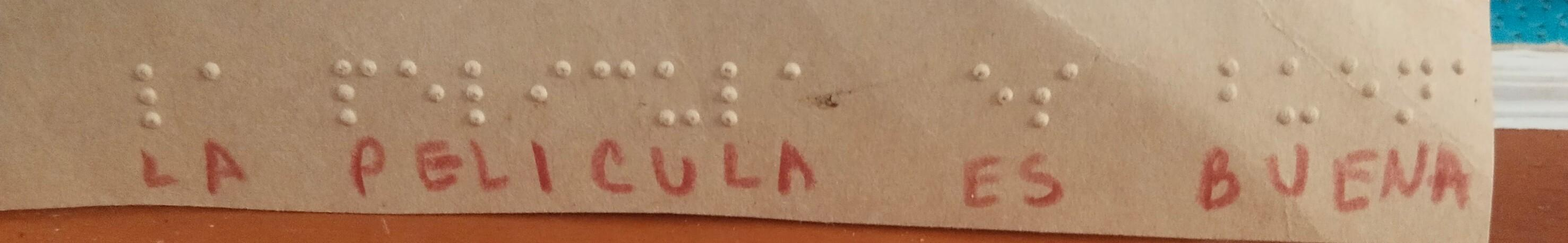a: (761, 44, 817, 99), (1431, 51, 1492, 101), (175, 50, 237, 92)
b: (1210, 48, 1247, 126)
c: (587, 51, 649, 108)
e: (382, 53, 449, 113), (1334, 53, 1385, 129), (968, 53, 1019, 122)
i: (518, 51, 580, 120)
l: (122, 51, 175, 138), (462, 55, 502, 131), (715, 50, 747, 134)
n: (1385, 50, 1435, 134)
p: (317, 48, 382, 127)
s: (1021, 53, 1085, 138)
u: (1258, 50, 1334, 136), (651, 53, 710, 134)
